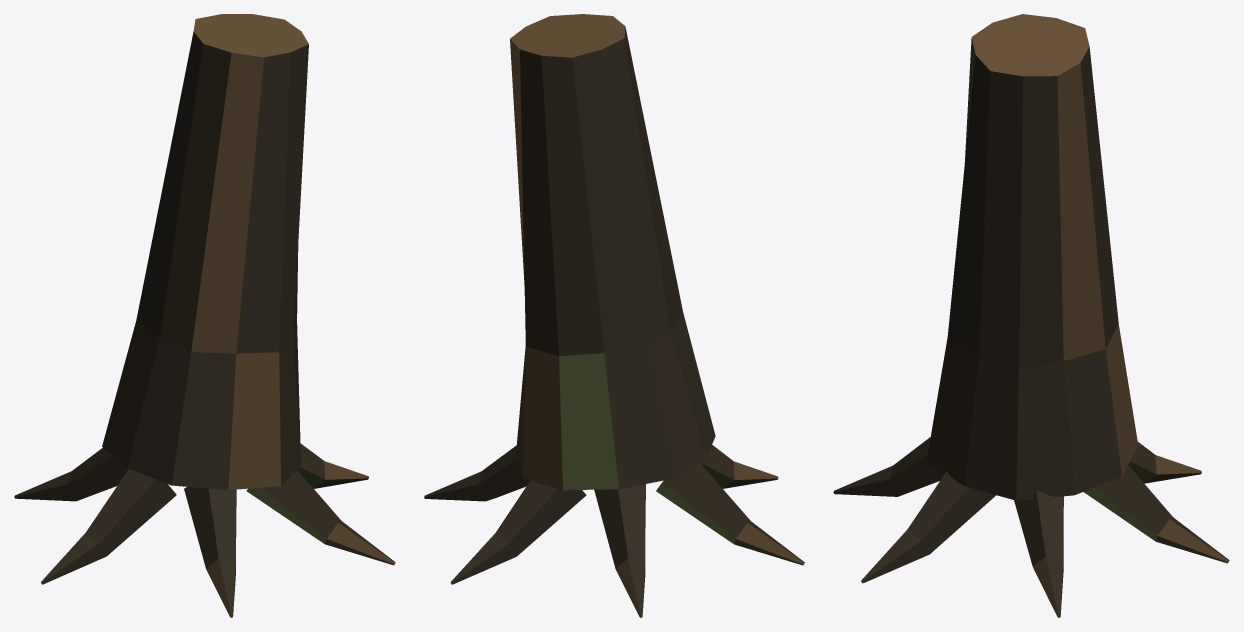
Rendered from wood_003a_rooted_leaning_trunk.glb.
3 views of the same model, side by side, from view 1: azimuth 30°, elevation 25°; view 2: azimuth 150°, elevation 25°; view 3: azimuth 270°, elevation 25° (orthographic). The views are drawn at different scales.
Parts seen in each view (by area): view 1: wood_003a_rooted_leaning_trunk__mesh; view 2: wood_003a_rooted_leaning_trunk__mesh; view 3: wood_003a_rooted_leaning_trunk__mesh.
Part boxes in pixels (x1=…): wood_003a_rooted_leaning_trunk__mesh: x1=14, y1=14, x2=395, y2=617; wood_003a_rooted_leaning_trunk__mesh: x1=424, y1=14, x2=804, y2=617; wood_003a_rooted_leaning_trunk__mesh: x1=833, y1=14, x2=1229, y2=617.
Bounding box in the file's own units: 3.3 × 4.39 × 3.08.
